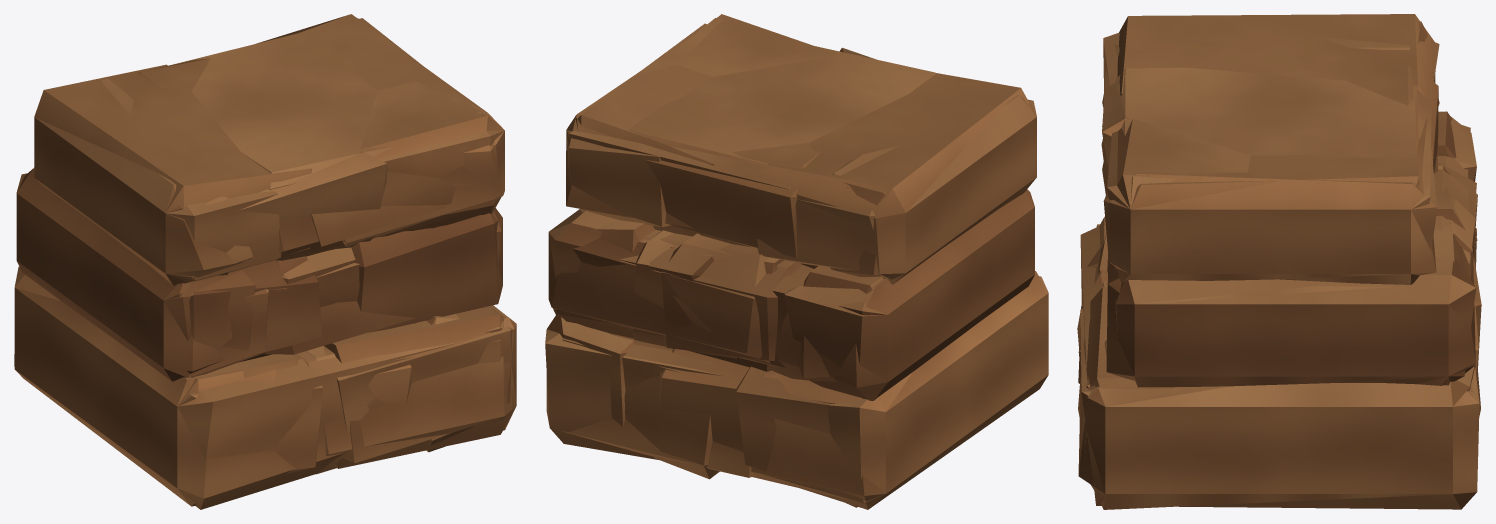
File: border.glb
The picture shows the model from 3 angles, left to right: view 1: azimuth 30°, elevation 25°; view 2: azimuth 150°, elevation 25°; view 3: azimuth 270°, elevation 25°; orthographic projection. The views are drawn at different scales.
Parts seen in each view (by area): view 1: border_0, border_1, border_2, border_4, border_3; view 2: border_0, border_1, border_2, border_4, border_3; view 3: border_0, border_1, border_2, border_3, border_4.
Part boxes in pixels (x1,y1,x2,y2): border_0: (14,58,516,487); border_1: (14,14,516,506); border_2: (164,18,504,509); border_4: (17,81,515,473); border_3: (14,18,515,498); border_0: (548,18,1048,493); border_1: (545,23,1048,509); border_2: (547,46,1047,503); border_4: (566,14,1036,488); border_3: (548,18,912,507); border_0: (1080,36,1477,493); border_1: (1080,14,1479,509); border_2: (1077,42,1478,406); border_3: (1078,41,1476,493); border_4: (1078,21,1481,509).
Bounding box in the file's own units: 1 × 0.8873 × 0.9656.
Materials: 1 (1 with a texture image).
